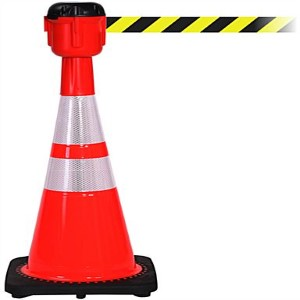traffic cone: (5, 57, 158, 298)
